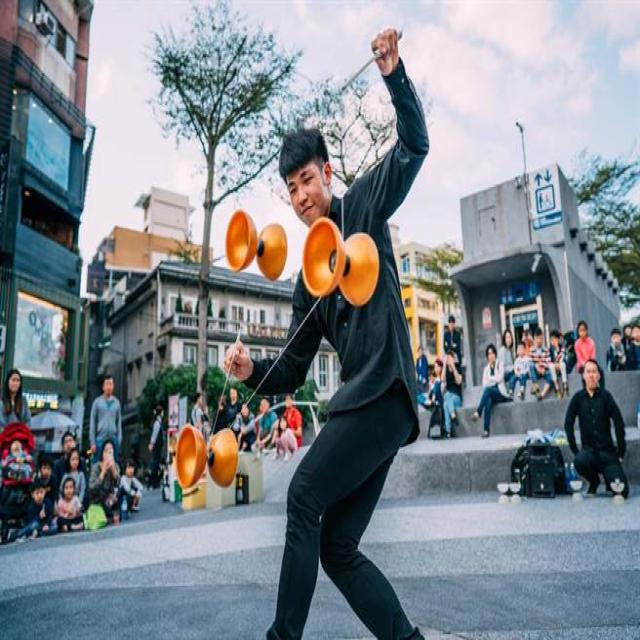stand: (229, 11, 451, 640)
